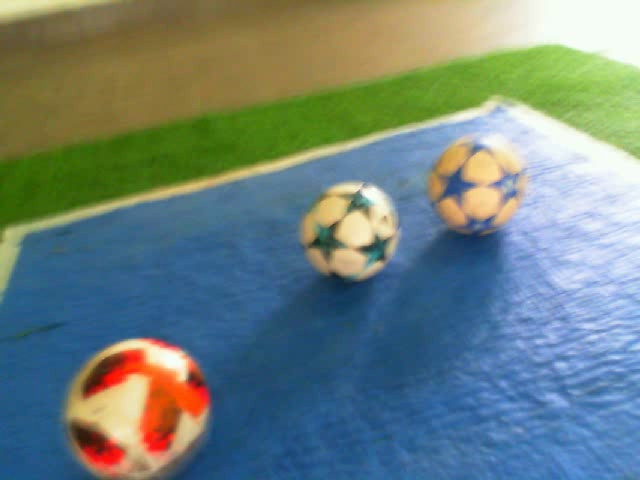ball: (56, 333, 218, 480), (422, 128, 532, 241), (296, 177, 404, 288)
